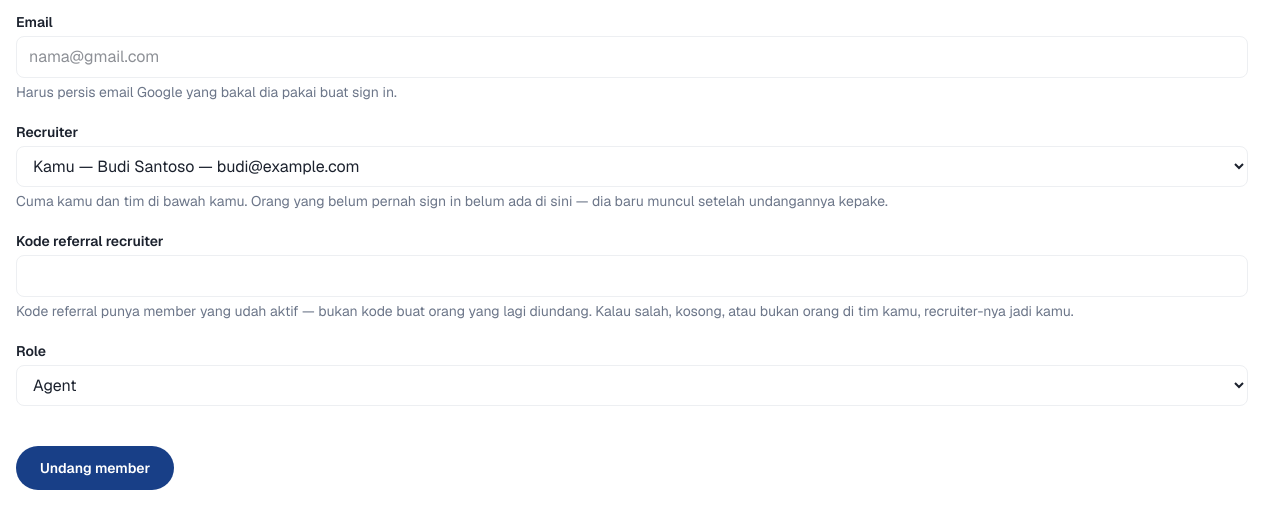
Scenario: AddMemberForm › shows a duplicate-email error inline instead of blowing up
The width and height of the screenshot is (1265, 527).
In the field labelled "Email": (632, 57) 16,36 -> 1248,78, type "budi@example.com"
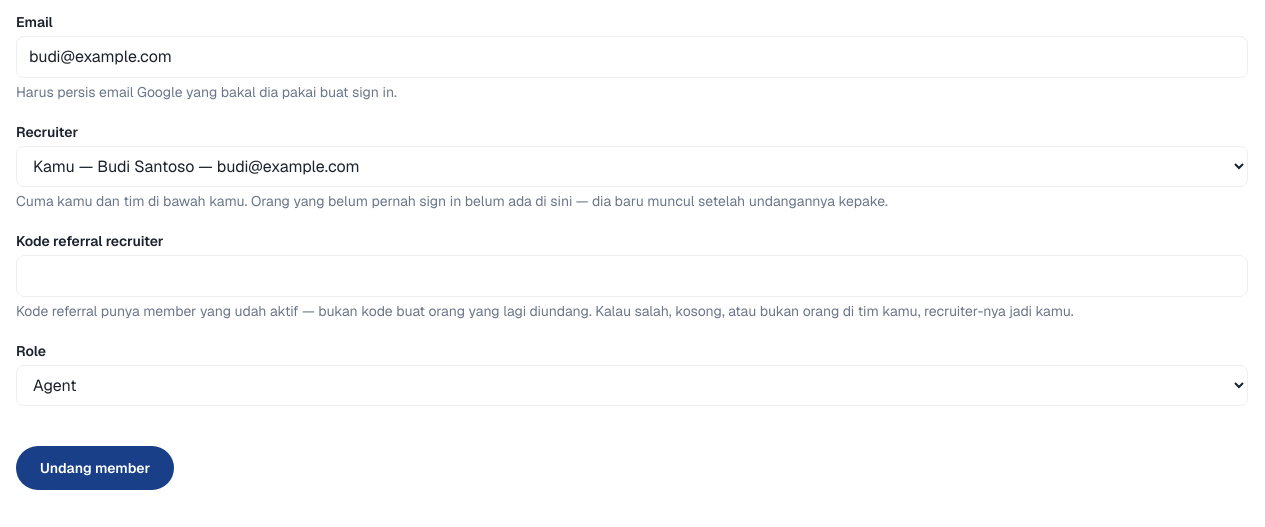
Click the button "Undang member": (95, 468) 16,446 -> 174,490
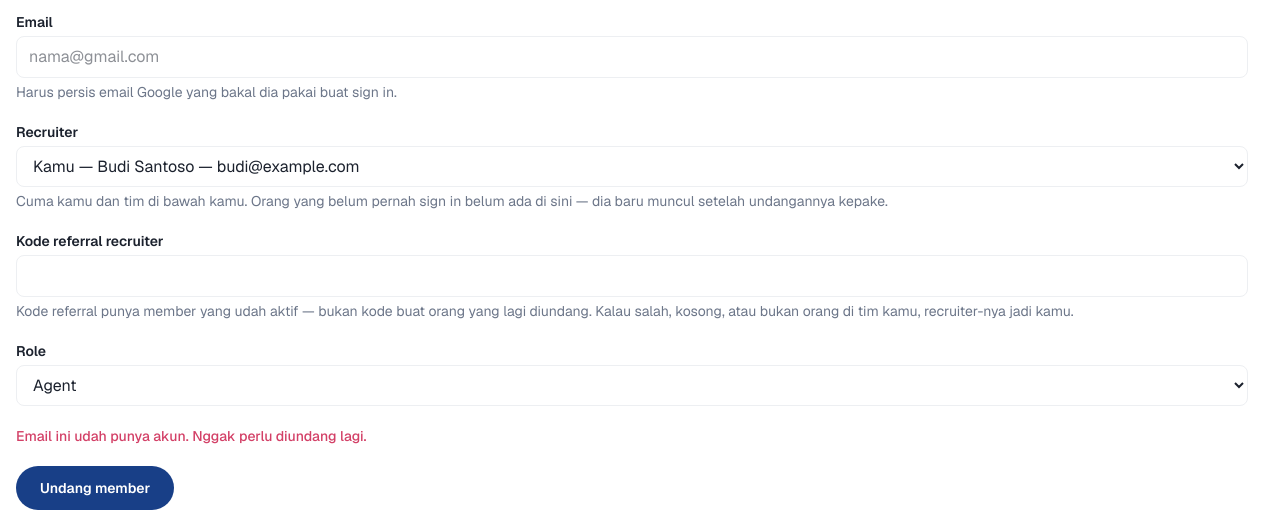
Expected: the field labelled "Email" is shown, 16,36 -> 1248,78
Expected: the text "Email ini udah punya akun. Nggak perlu diundang lagi." is shown, 16,427 -> 367,445
